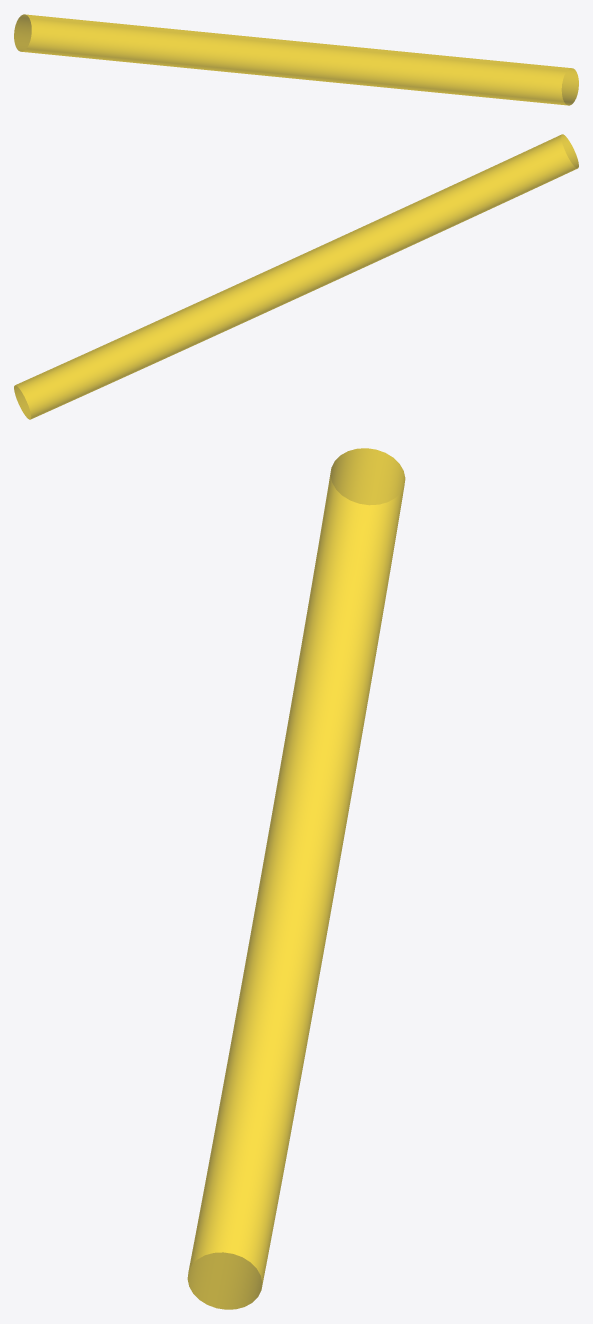
Rendered from Event_100608114_track_17.fbx.
3 renders of one model, top to bottom at view 1: azimuth 30°, elevation 25°; view 2: azimuth 210°, elevation 25°; view 3: azimuth 270°, elevation 25°, orthographic. The views are drawn at different scales.
Visible parts, largest first — view 1: Model; view 2: Model; view 3: Model.
Part boxes in pixels (box(x1,y1,x2,y2)): Model: box(14, 14, 578, 105); Model: box(14, 134, 578, 419); Model: box(187, 448, 405, 1309).
Bounding box in the file's own units: 0.638 × 0.2168 × 0.1155.
